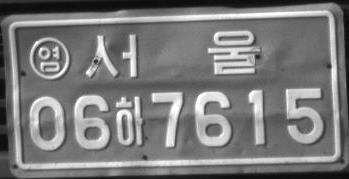0: (28, 94, 66, 152)
1: (239, 89, 276, 145)
5: (285, 86, 324, 145)
6: (193, 90, 232, 148), (73, 93, 111, 151)
7: (149, 90, 184, 148)
서울_D: (84, 29, 261, 79)
영: (28, 35, 70, 79)
하: (114, 95, 144, 146)
